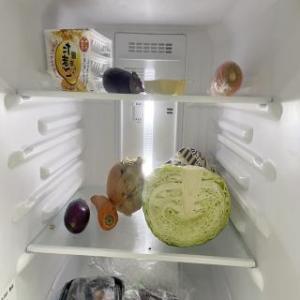cabbage: (140, 167, 230, 250)
carrot: (205, 60, 243, 96), (92, 194, 118, 231)
eggplant: (103, 66, 144, 92), (62, 198, 90, 232)
onion: (106, 157, 146, 215)
